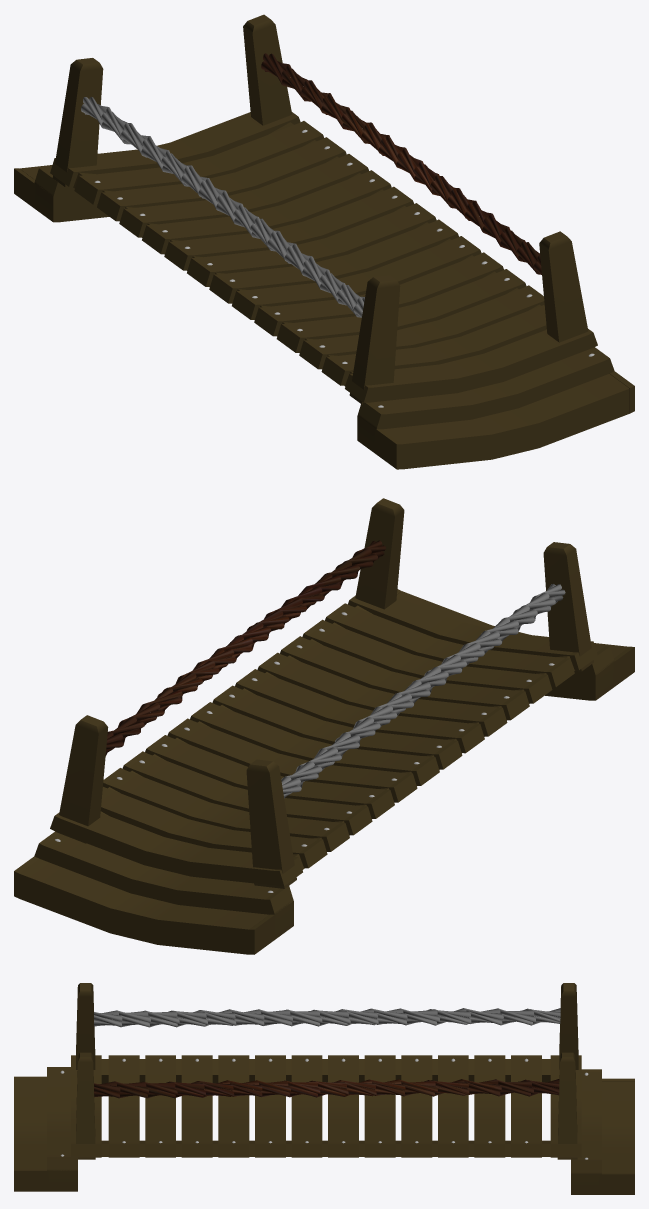
File: Tulay1.fbx
3 renders of one model, top to bottom at view 1: azimuth 30°, elevation 25°; view 2: azimuth 150°, elevation 25°; view 3: azimuth 270°, elevation 25°, orthographic. The views are drawn at different scales.
Parts seen in each view (by area): view 1: pasted__pasted__pasted__pCube9, pasted__pasted__pCube9, pasted__pasted__sweep1, sweep1, pasted__pCube14, pasted__pCube18, pasted__pCube15, pasted__pCube20, pasted__pCube16, pasted__pCube17, pasted__pCube19, pasted__pCube11 (+11 smaller); view 2: pasted__pasted__pasted__pCube24, pasted__pasted__pCube20, pasted__pasted__sweep1, sweep1, pasted__pCube14, pasted__pCube15, pCube10, pasted__pCube11, pasted__pCube13, pCube12, pasted__pCube9, pasted__pCube19 (+10 smaller); view 3: pasted__pasted__pasted__pCube9, pasted__pasted__pasted__pCube24, pasted__pasted__sweep1, sweep1, pasted__pCube21, pasted__pCube17, pasted__pCube19, pasted__pCube11, pasted__pCube14, pasted__pCube9, pCube12, pasted__pCube16 (+11 smaller).
Part boxes in pixels (x1=…): pasted__pasted__pasted__pCube9: x1=357, y1=347, x2=634, y2=469; pasted__pasted__pCube9: x1=345, y1=329, x2=597, y2=402; pasted__pasted__sweep1: x1=81, y1=97, x2=364, y2=317; sweep1: x1=261, y1=53, x2=541, y2=274; pasted__pCube14: x1=209, y1=219, x2=458, y2=303; pasted__pCube18: x1=119, y1=154, x2=368, y2=237; pasted__pCube15: x1=187, y1=203, x2=436, y2=286; pasted__pCube20: x1=74, y1=121, x2=323, y2=204; pasted__pCube16: x1=164, y1=186, x2=413, y2=270; pasted__pCube17: x1=142, y1=170, x2=391, y2=254; pasted__pCube19: x1=97, y1=137, x2=346, y2=221; pasted__pCube11: x1=276, y1=269, x2=526, y2=352; pasted__pasted__pasted__pCube24: x1=14, y1=831, x2=293, y2=954; pasted__pasted__pCube20: x1=50, y1=812, x2=302, y2=886; pasted__pasted__sweep1: x1=281, y1=584, x2=565, y2=798; sweep1: x1=105, y1=540, x2=385, y2=755; pasted__pCube14: x1=212, y1=685, x2=462, y2=769; pasted__pCube15: x1=190, y1=702, x2=439, y2=785; pCube10: x1=302, y1=619, x2=552, y2=703; pasted__pCube11: x1=280, y1=636, x2=529, y2=720; pasted__pCube13: x1=235, y1=669, x2=484, y2=753; pCube12: x1=257, y1=652, x2=507, y2=736; pasted__pCube9: x1=325, y1=603, x2=574, y2=687; pasted__pCube19: x1=103, y1=768, x2=349, y2=851; pasted__pasted__pasted__pCube9: x1=14, y1=1067, x2=77, y2=1191; pasted__pasted__pasted__pCube24: x1=571, y1=1069, x2=634, y2=1194; pasted__pasted__sweep1: x1=94, y1=1008, x2=560, y2=1027; sweep1: x1=94, y1=1079, x2=559, y2=1098; pasted__pCube21: x1=101, y1=1059, x2=550, y2=1156; pasted__pCube17: x1=401, y1=1055, x2=432, y2=1157; pasted__pCube19: x1=474, y1=1055, x2=505, y2=1157; pasted__pCube11: x1=181, y1=1055, x2=212, y2=1157; pasted__pCube14: x1=291, y1=1055, x2=322, y2=1157; pasted__pCube9: x1=108, y1=1055, x2=139, y2=1157; pCube12: x1=218, y1=1055, x2=249, y2=1157; pasted__pCube16: x1=364, y1=1055, x2=395, y2=1157.
Bounding box in the file's own units: 7.33 × 4.92 × 20.14.
29 materials, 1 textured.
